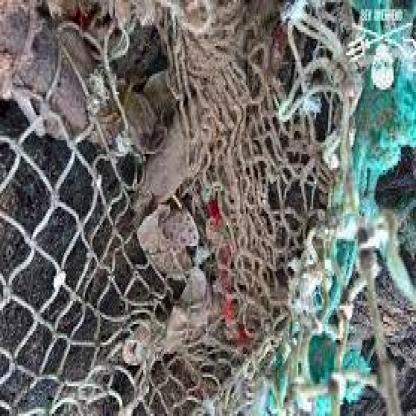net: (1, 4, 348, 416)
